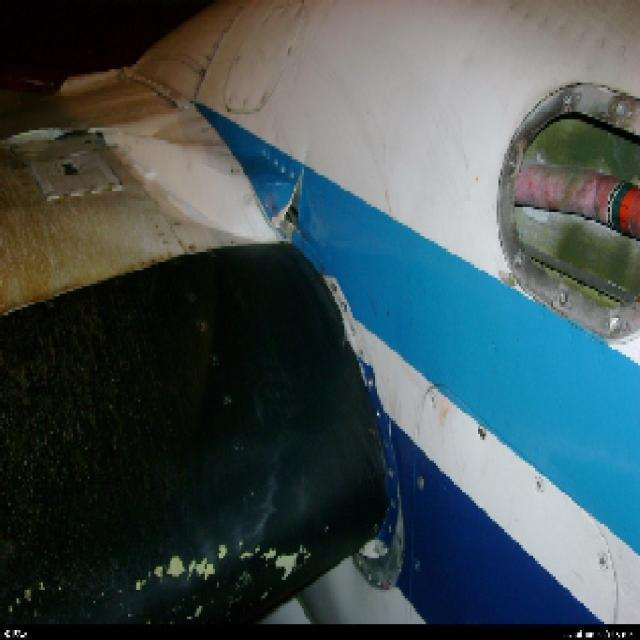crack: (273, 165, 313, 239)
